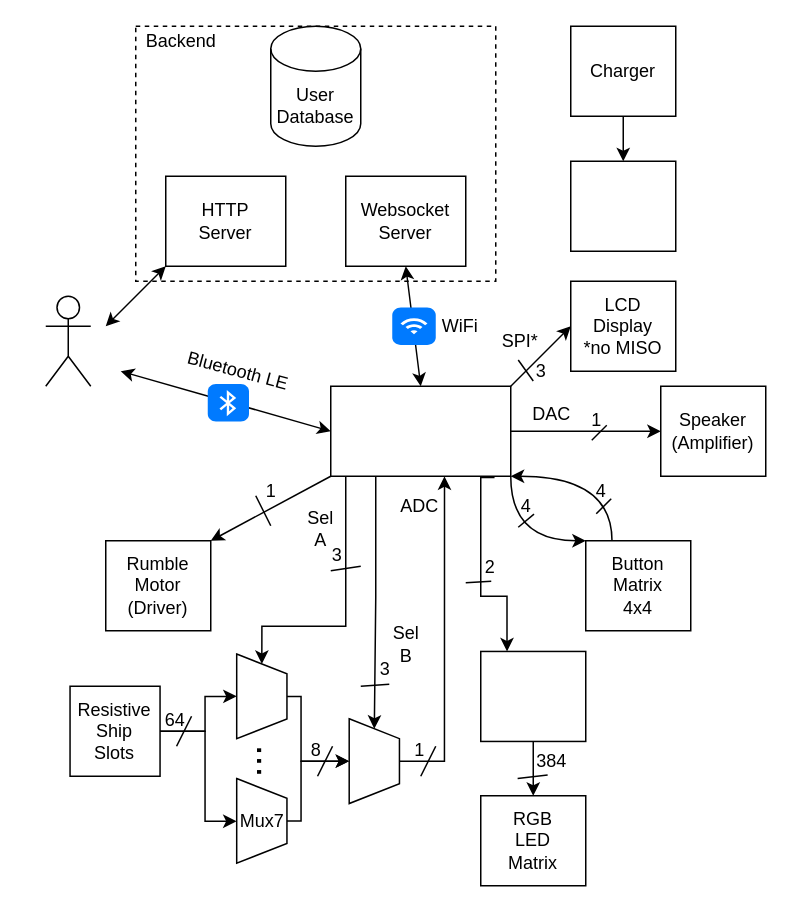
This 792x912 diagram has some shape labels left out. The shapes that lost their labels are listed below. From the top down, each one's centre as x and y in pixels, then its label:
[622,205]: Battery
[67,340]: Computer/ Tablet/ Phone
[420,430]: Microcontroller ESP32
[261,695]: Mux0
[532,695]: Shift Registers Daisy Chain
[373,760]: Mux
